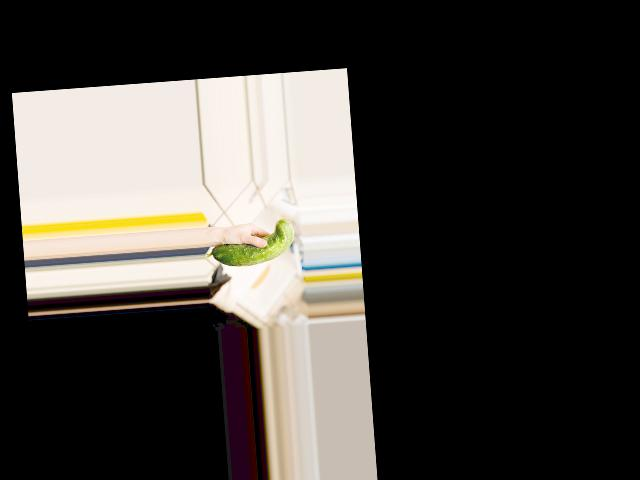cucumber: (203, 218, 296, 269)
